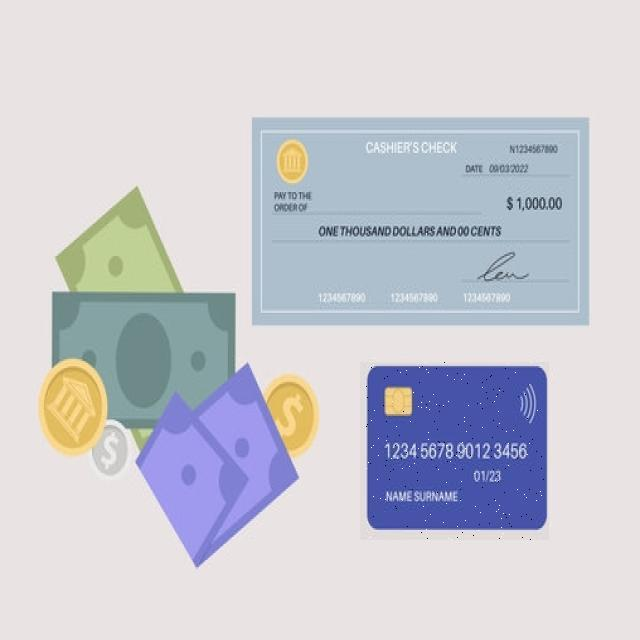payment_card: (364, 363, 548, 533)
